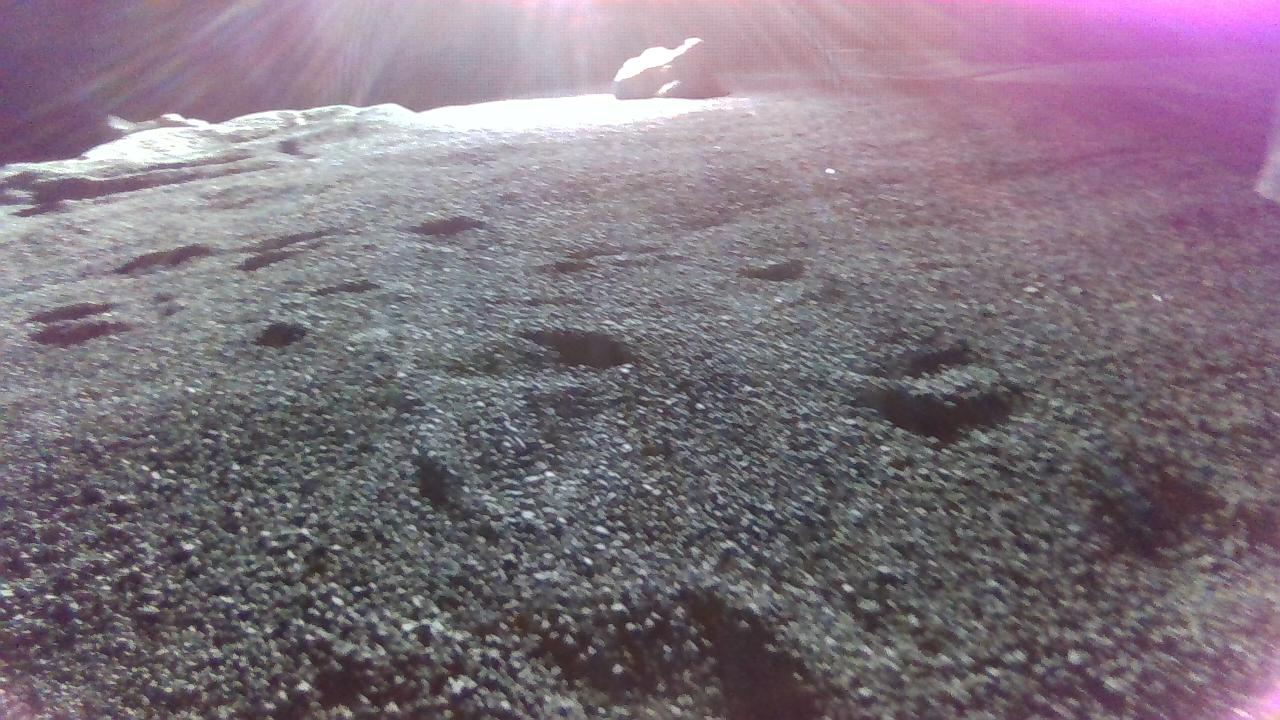rock: (613, 36, 729, 98)
